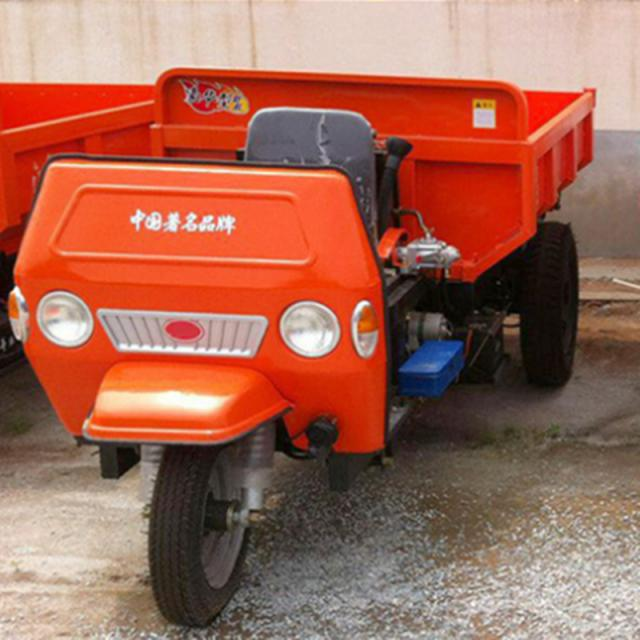tricycle: (5, 62, 600, 628)
